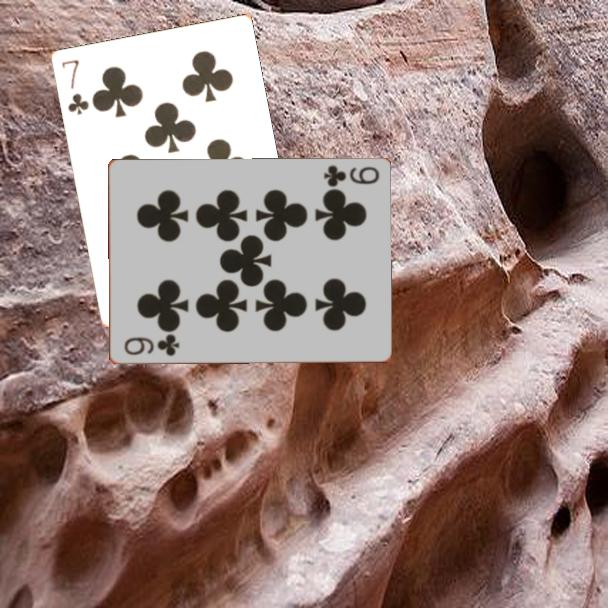c07: (58, 56, 91, 117)
c09: (320, 162, 382, 190), (120, 332, 182, 359)
